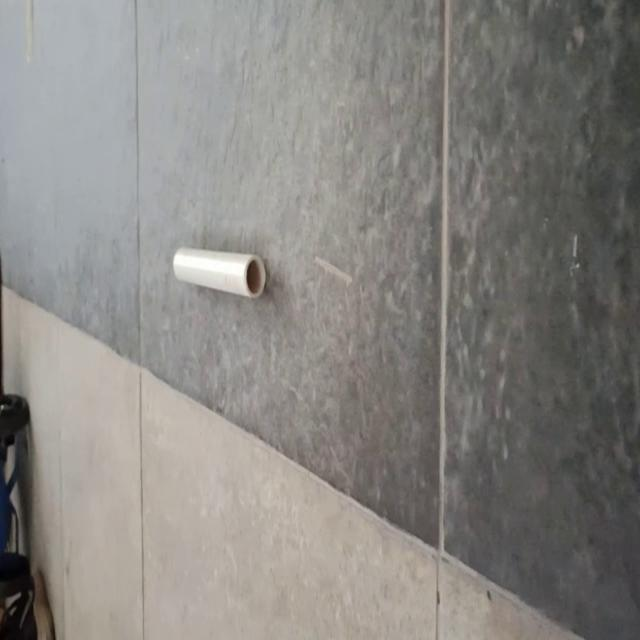Cube: (172, 244, 266, 300)
